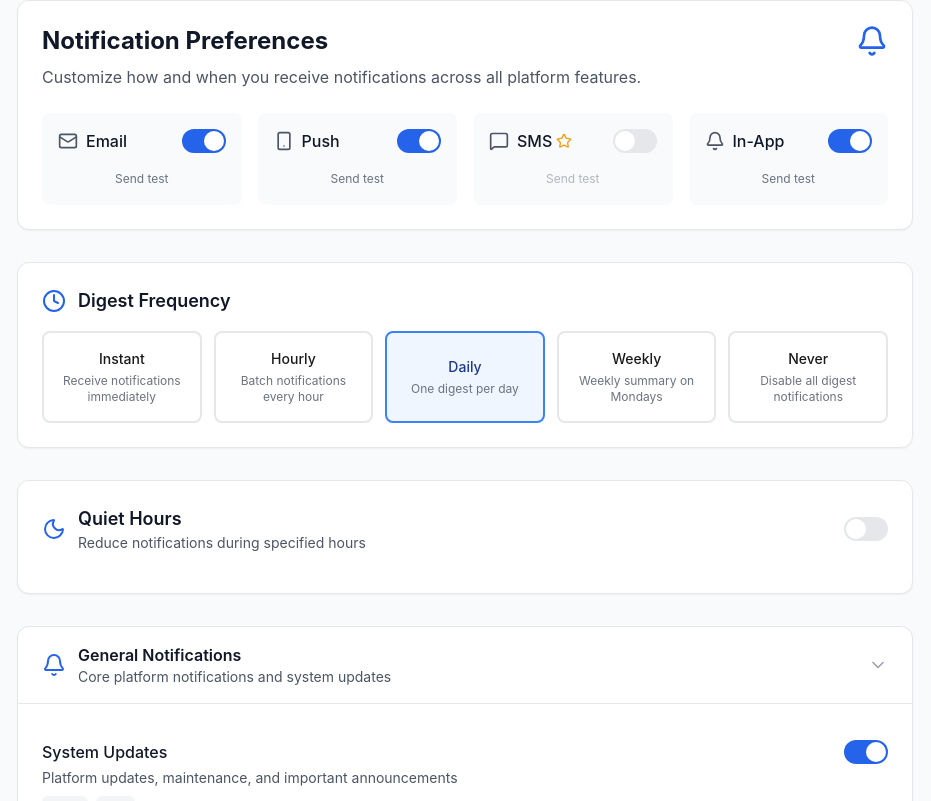
Test: NotificationPreferences › Digest frequency selection › clicking a frequency updates the active state (shows unsaved changes)
The width and height of the screenshot is (931, 801).
Click the text "Instant" at point(122, 358), box [99,350,145,367]
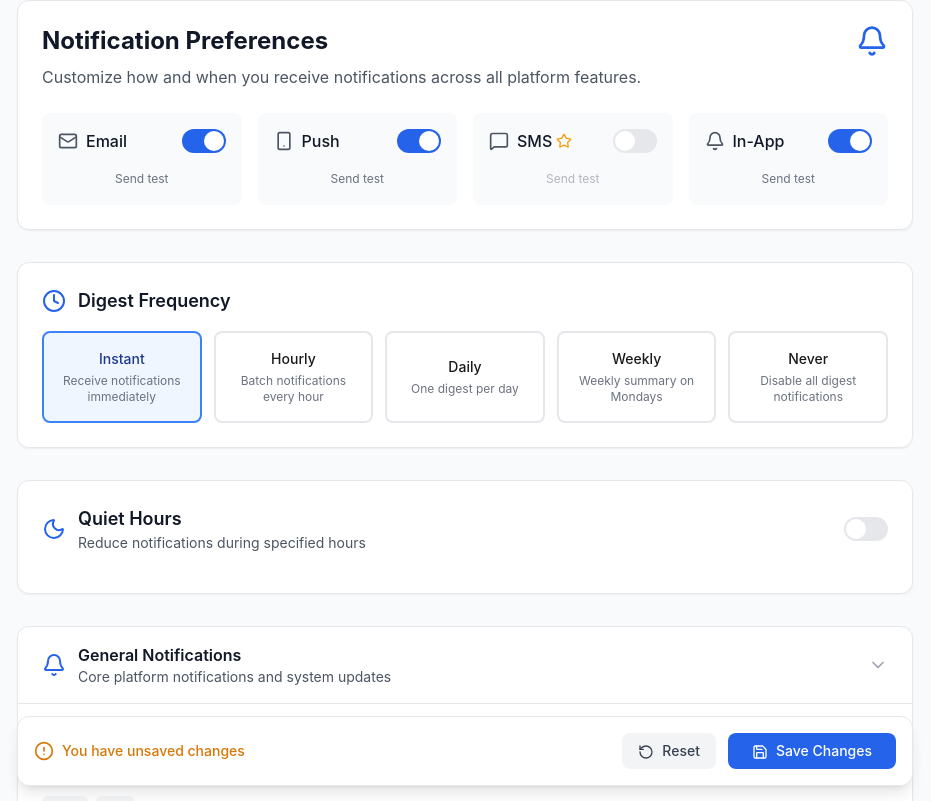
Expected: the text "You have unsaved changes" is shown, [62,741,245,761]
